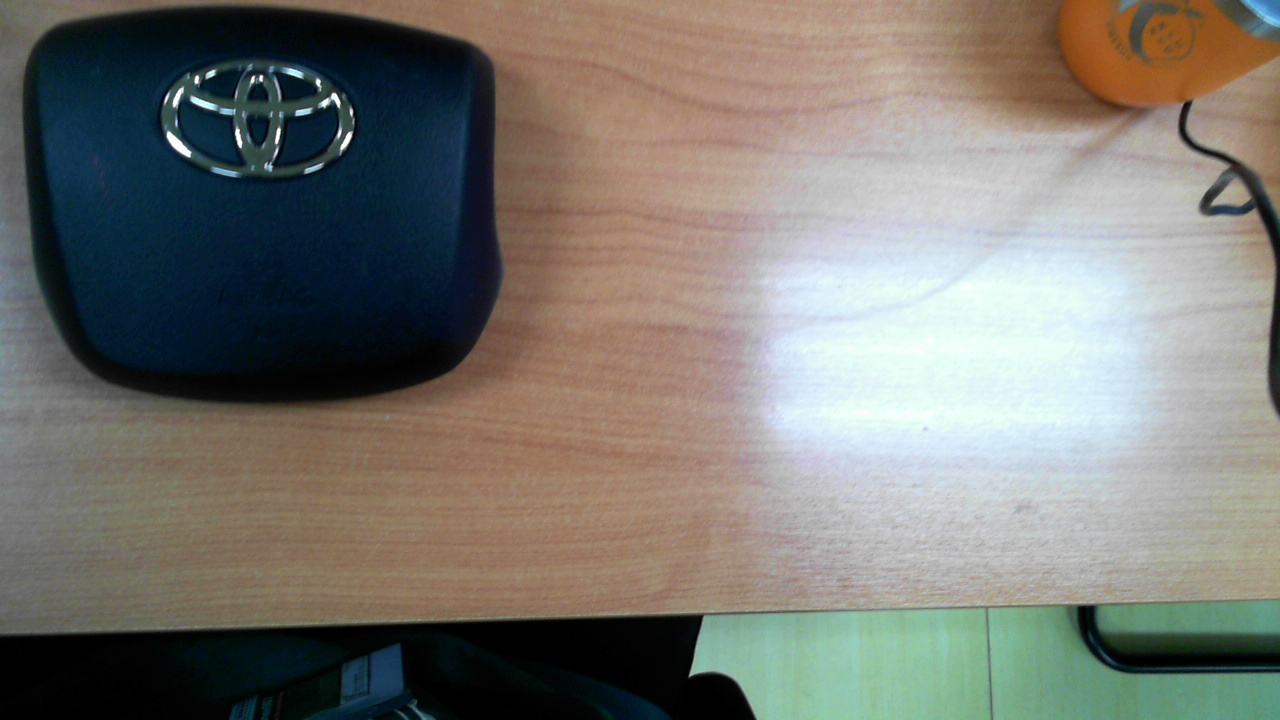Airbag: (21, 5, 504, 405)
Toyota: (160, 58, 356, 179)
